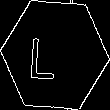L_N: (39, 29, 71, 81)
